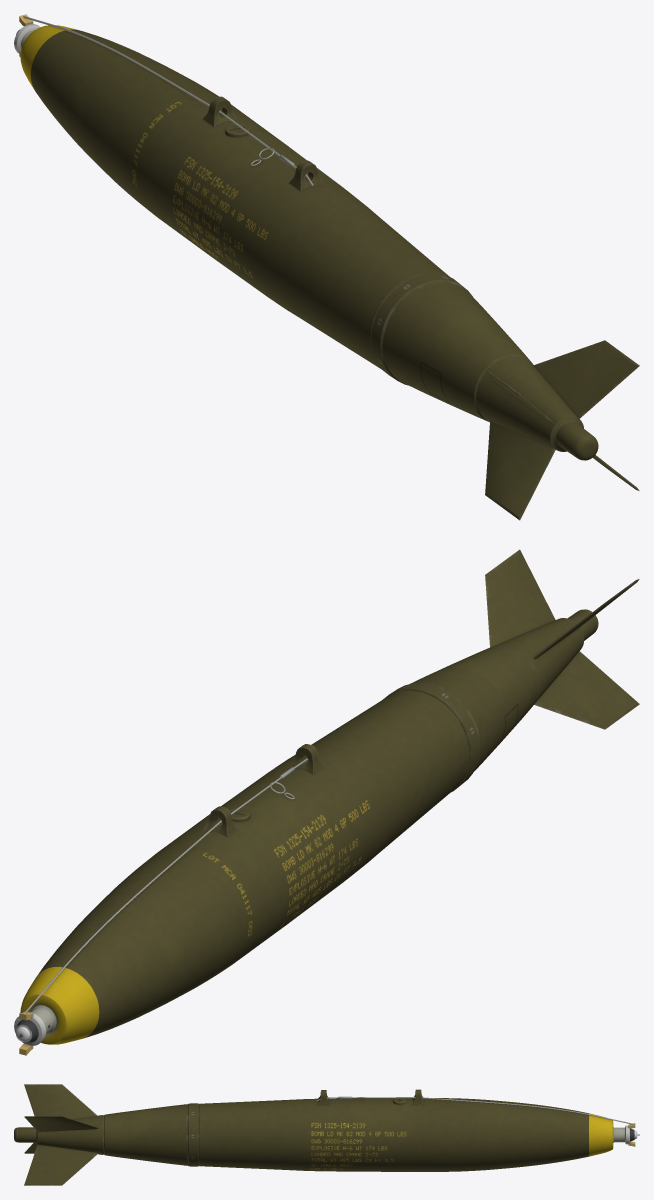
The picture shows the model from 3 angles, top to bottom: view 1: azimuth 30°, elevation 25°; view 2: azimuth 150°, elevation 25°; view 3: azimuth 270°, elevation 25°; orthographic projection. The views are drawn at different scales.
Parts seen in each view (by area): view 1: M82_body, M82_fins, M82_lugs, M82_wire; view 2: M82_body, M82_fins, M82_lugs, M82_fuze, M82_wire; view 3: M82_body, M82_fins, M82_wire, M82_fuze, M82_lugs.
Part boxes in pixels (x1=…): M82_body: x1=20, y1=25, x2=598, y2=460; M82_fins: x1=485, y1=340, x2=639, y2=520; M82_lugs: x1=203, y1=96, x2=324, y2=191; M82_wire: x1=23, y1=16, x2=313, y2=186; M82_body: x1=20, y1=609, x2=598, y2=1044; M82_fins: x1=485, y1=549, x2=639, y2=729; M82_lugs: x1=203, y1=744, x2=324, y2=837; M82_fuze: x1=14, y1=1005, x2=56, y2=1055; M82_wire: x1=23, y1=758, x2=308, y2=1014; M82_body: x1=14, y1=1098, x2=613, y2=1171; M82_fins: x1=24, y1=1084, x2=98, y2=1185; M82_wire: x1=316, y1=1096, x2=634, y2=1124; M82_fuze: x1=613, y1=1123, x2=639, y2=1146; M82_lugs: x1=317, y1=1089, x2=424, y2=1105.
Bounding box in the file's own units: 0.2794 × 0.3207 × 2.3.
4 materials, 3 textured.
